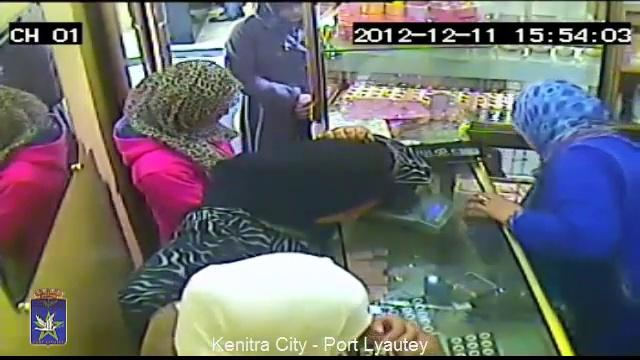Customer-Bagpack: (374, 124, 435, 194)
Regular: (503, 41, 640, 360), (167, 229, 383, 360), (120, 36, 233, 185), (257, 123, 388, 245), (223, 1, 339, 135)
